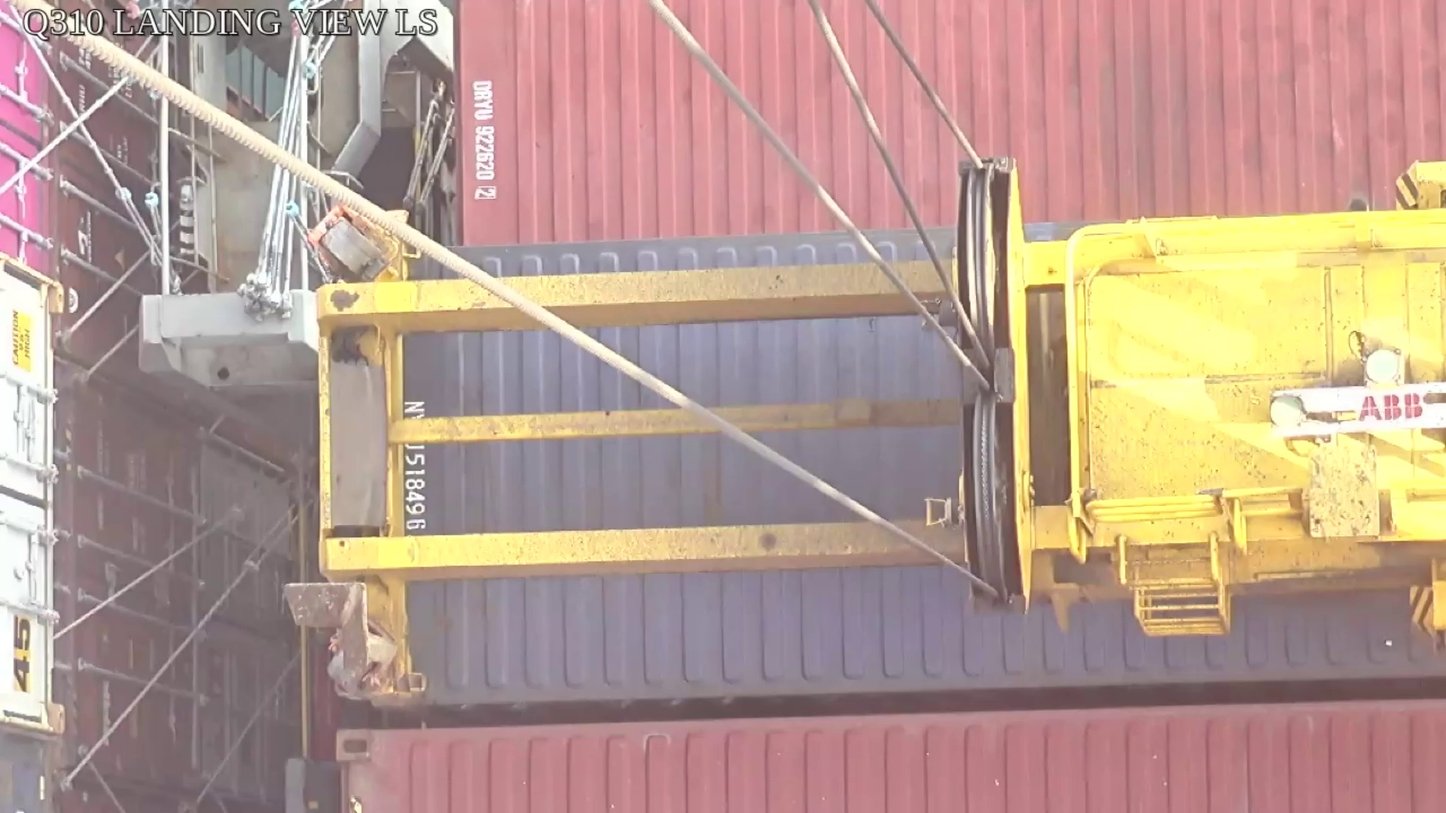aa: (952, 160, 1036, 617)
